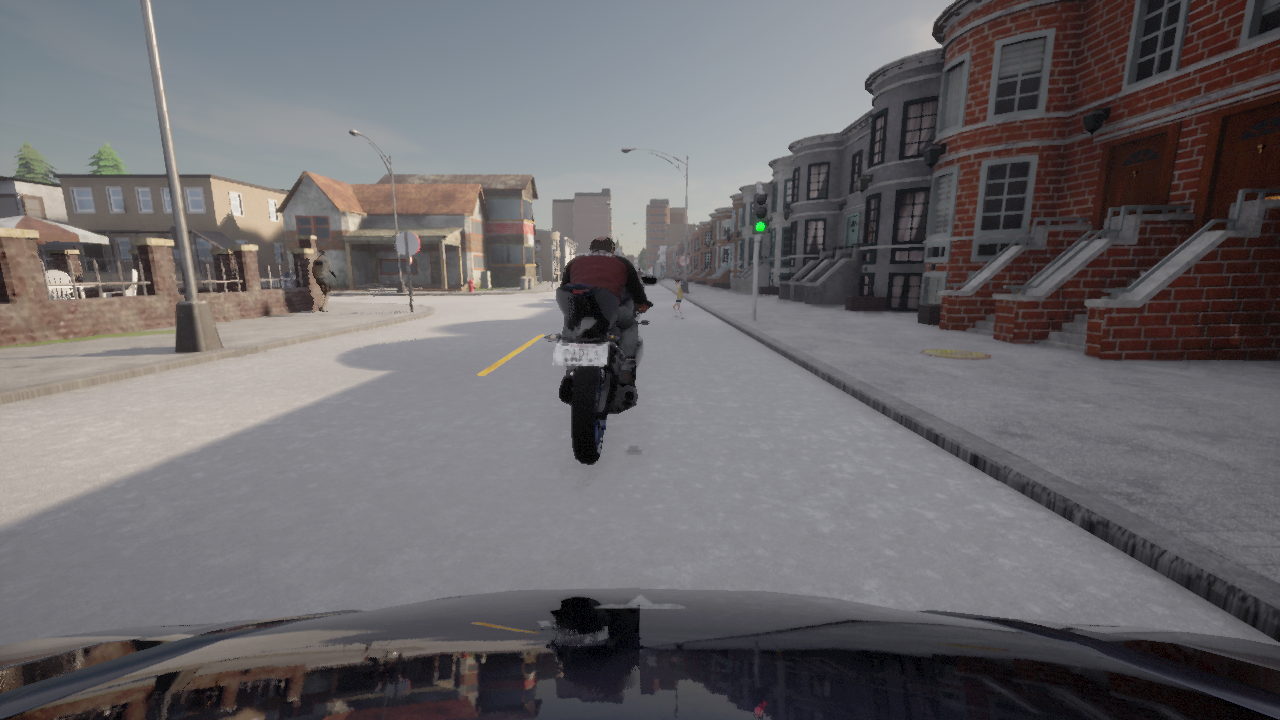cyclist: (0, 588, 1279, 719), (544, 274, 658, 462)
pedestrian: (311, 248, 338, 312), (670, 278, 685, 319)
